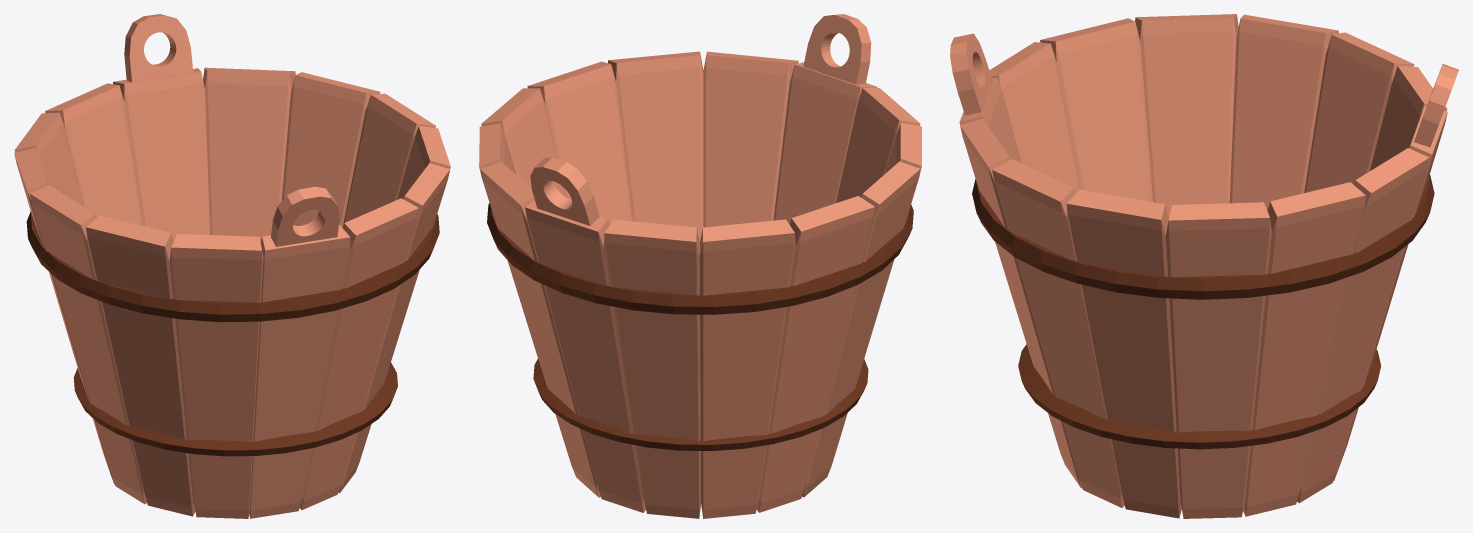
Rendered from Bucket_1 1.fbx.
The picture shows the model from 3 angles, left to right: view 1: azimuth 30°, elevation 25°; view 2: azimuth 150°, elevation 25°; view 3: azimuth 270°, elevation 25°; orthographic projection. The views are drawn at different scales.
Visible parts, largest first — view 1: Cube.076; view 2: Cube.076; view 3: Cube.076.
Boxes of the visible parts, box(x1,y1,x2,y2) form: Cube.076: box(14, 14, 450, 518); Cube.076: box(479, 14, 921, 518); Cube.076: box(950, 14, 1458, 518).
Size of the model in its own units: 366 by 340 by 384.
